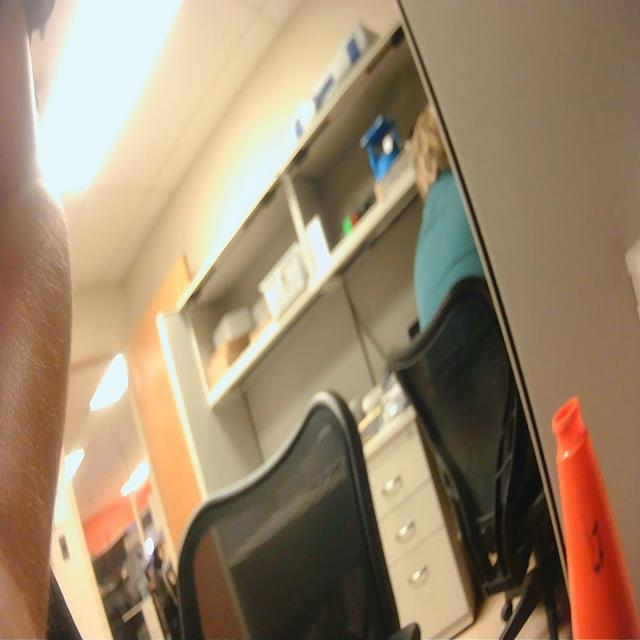traffic cone: (547, 387, 640, 640)
